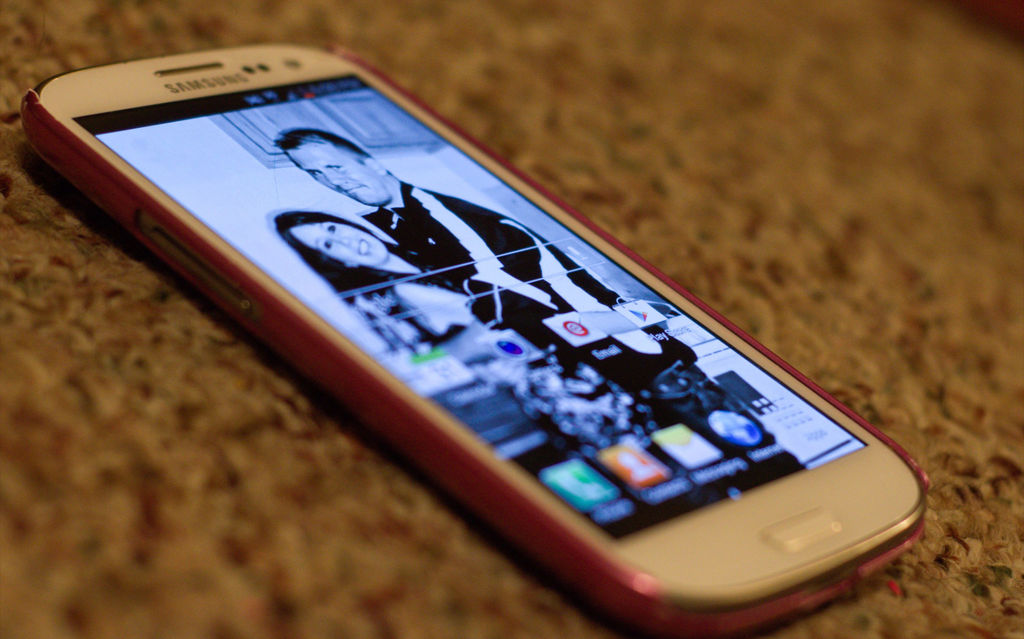Mobile-phone: (8, 37, 929, 612)
